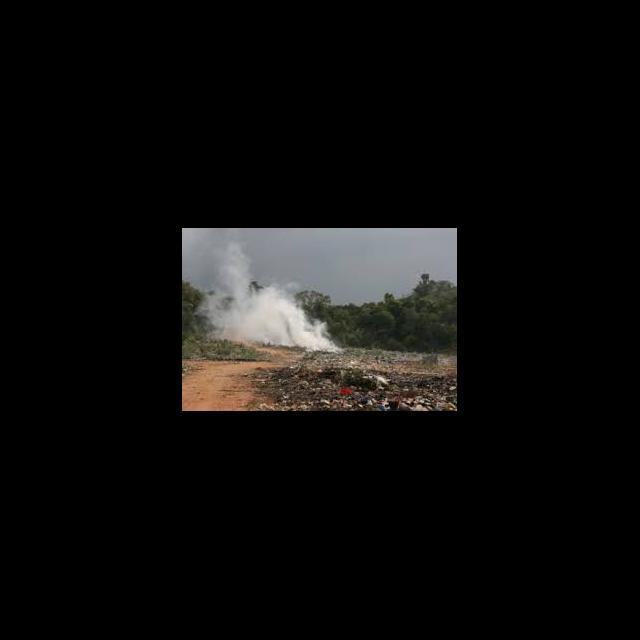Smoke: (195, 244, 343, 354)
